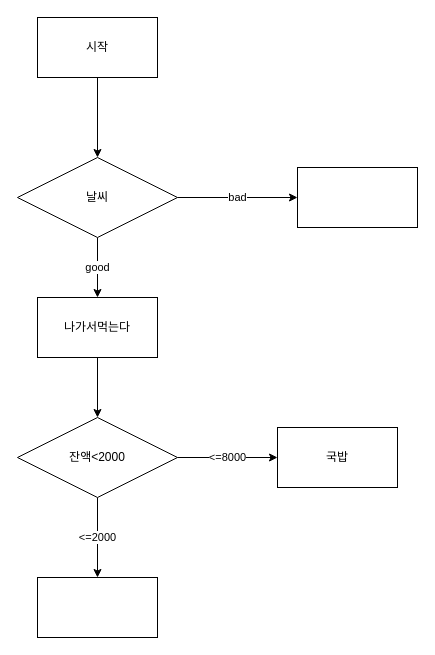
The diagram is 435 pixels wide and 655 high, and some of its shapes have lost their labels. The shapes that lost their labels are listed below. From the top down, each one's centre as x and y in pixels, then its label:
point (357, 197): 집에서먹는다
point (97, 607): 삼각김밥
